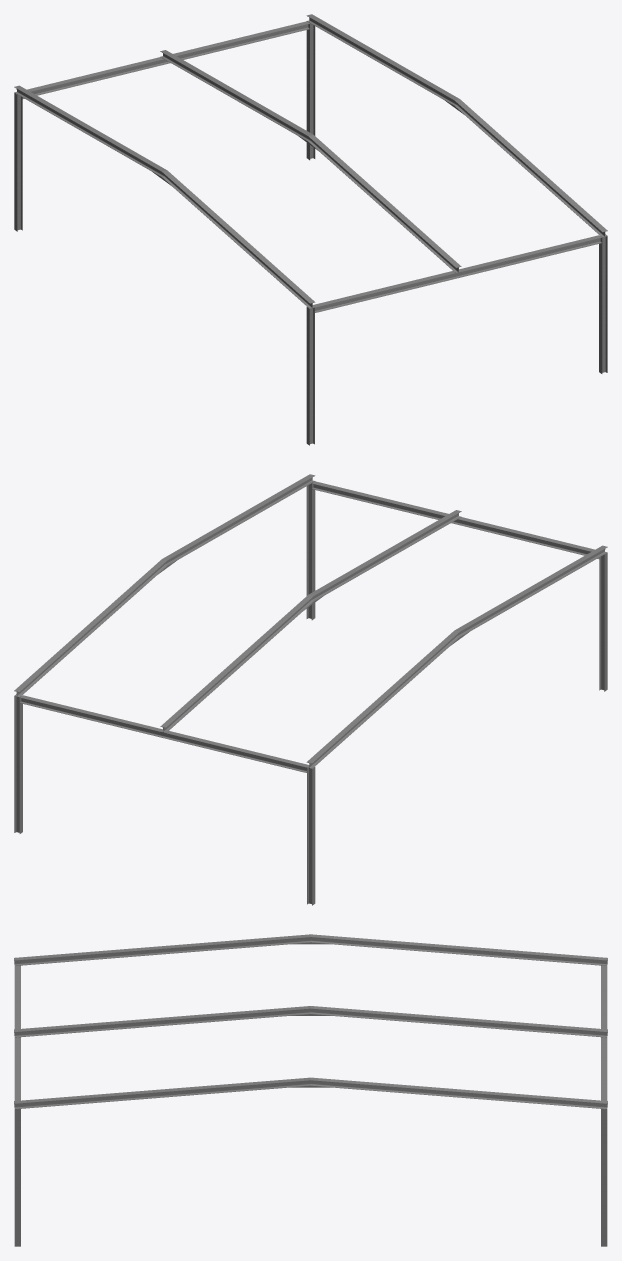
Rendered from frame__partial.glb.
3 views of the same model, one above another, from view 1: azimuth 30°, elevation 25°; view 2: azimuth 150°, elevation 25°; view 3: azimuth 270°, elevation 25° (orthographic).
Parts seen in each view (by area): view 1: 3DGeom-9, 3DGeom-7, 3DGeom-8, 3DGeom-5, 3DGeom-4, Assembly-12, 3DGeom-2, 3DGeom-3, 3DGeom-6; view 2: 3DGeom-9, 3DGeom-7, 3DGeom-8, 3DGeom-4, 3DGeom-5, 3DGeom-3, 3DGeom-2, 3DGeom-6, Assembly-12; view 3: 3DGeom-7, 3DGeom-9, 3DGeom-8, 3DGeom-2, 3DGeom-6, 3DGeom-4, 3DGeom-5.
Boxes of the visible parts, x1,y1,x2,y2 form: 3DGeom-9: (306,14,607,237); 3DGeom-7: (14,85,315,308); 3DGeom-8: (160,50,461,272); 3DGeom-5: (313,235,601,312); 3DGeom-4: (22,21,309,98); Assembly-12: (306,307,314,445); 3DGeom-2: (599,235,607,373); 3DGeom-3: (14,93,22,231); 3DGeom-6: (306,22,315,160); 3DGeom-9: (14,474,315,697); 3DGeom-7: (306,545,607,768); 3DGeom-8: (160,510,461,732); 3DGeom-4: (20,695,308,772); 3DGeom-5: (312,481,599,558); 3DGeom-3: (307,767,315,905); 3DGeom-2: (306,482,315,620); 3DGeom-6: (14,695,22,833); Assembly-12: (599,553,607,691); 3DGeom-7: (14,934,607,965); 3DGeom-9: (14,1077,607,1109); 3DGeom-8: (14,1006,607,1037); 3DGeom-2: (14,1109,20,1246); 3DGeom-6: (601,1109,607,1246); 3DGeom-4: (601,966,607,1100); 3DGeom-5: (14,966,20,1100).
Bounding box in the file's own units: 13.45 × 7.16 × 23.14.
Materials: 1 (1 with a texture image).
